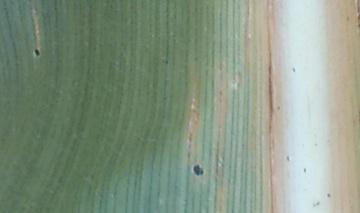tarspot: (191, 163, 205, 177), (32, 47, 41, 57), (159, 57, 170, 65), (311, 200, 321, 208), (284, 153, 291, 163), (325, 191, 332, 199), (275, 104, 281, 112), (301, 166, 307, 174), (290, 65, 295, 74)
